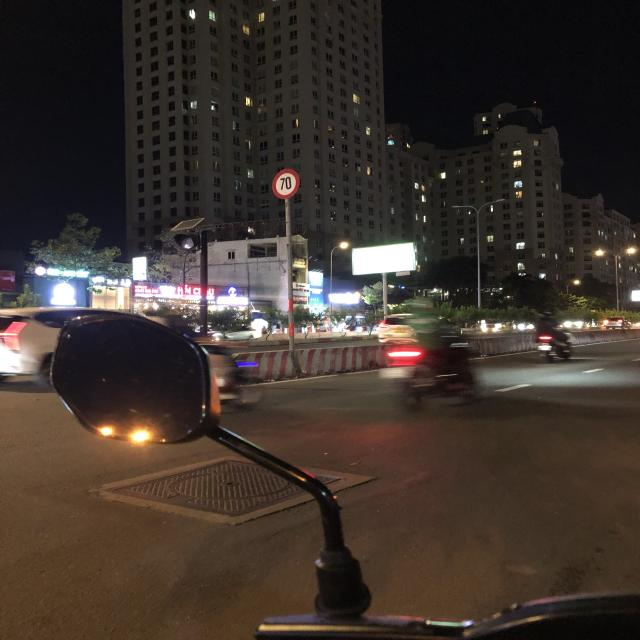Bien bao toc do toi da cho phep: (268, 163, 304, 207)
